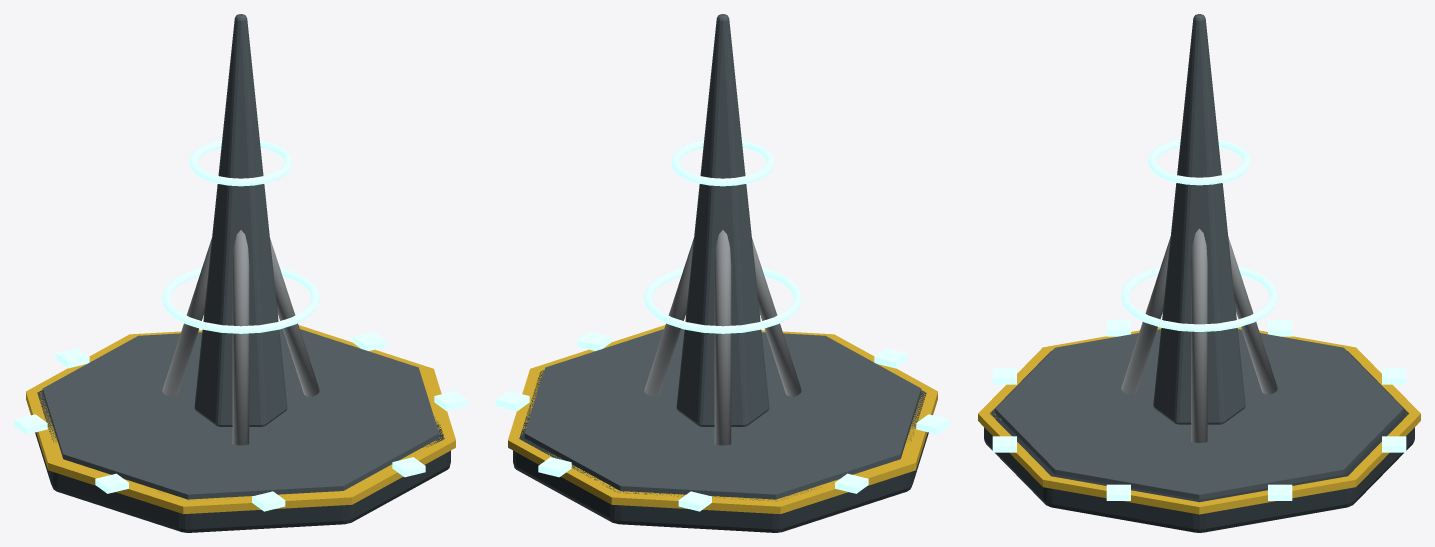
File: decoration_spire.fbx
3 views of the same model, side by side, from view 1: azimuth 30°, elevation 25°; view 2: azimuth 150°, elevation 25°; view 3: azimuth 270°, elevation 25° (orthographic).
Visible parts, largest first — view 1: decoration_spire, ANIM_pulse_0.7__halo_low, ANIM_pulse_0.9__halo_high; view 2: decoration_spire, ANIM_pulse_0.7__halo_low, ANIM_pulse_0.9__halo_high; view 3: decoration_spire, ANIM_pulse_0.7__halo_low, ANIM_pulse_0.9__halo_high.
Boxes of the visible parts, box(x1,y1,x2,y2) form: decoration_spire: box(14, 14, 467, 532); ANIM_pulse_0.7__halo_low: box(162, 267, 319, 333); ANIM_pulse_0.9__halo_high: box(189, 140, 292, 186); decoration_spire: box(496, 14, 949, 532); ANIM_pulse_0.7__halo_low: box(644, 267, 801, 333); ANIM_pulse_0.9__halo_high: box(671, 140, 774, 186); decoration_spire: box(978, 14, 1420, 532); ANIM_pulse_0.7__halo_low: box(1121, 266, 1277, 331); ANIM_pulse_0.9__halo_high: box(1148, 139, 1250, 185).
Bounding box in the file's own units: 3.26 × 3.49 × 3.26.
